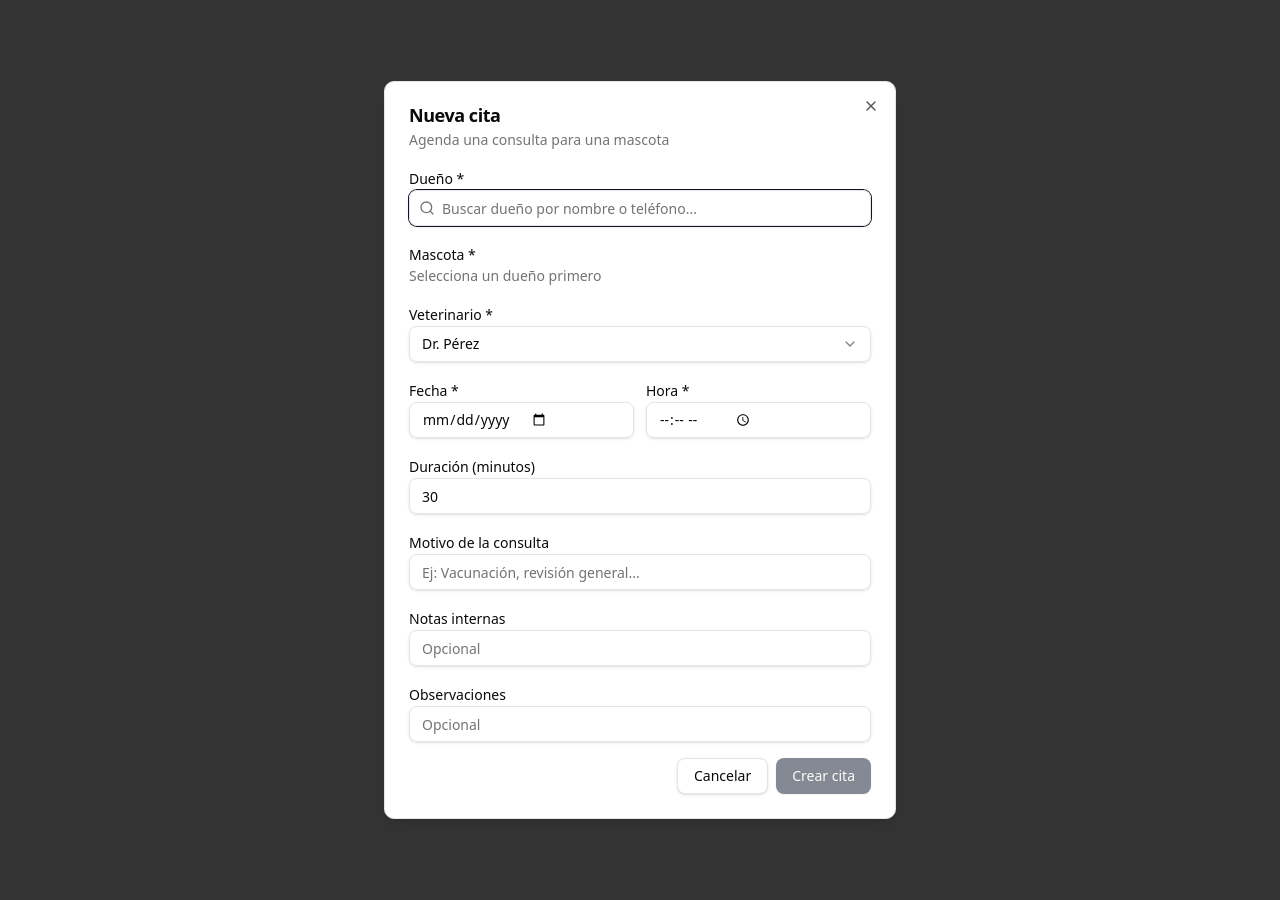
Test: CrearCitaModal › 4. conflicto: muestra sugerencias cuando hay conflicto
Type "Juan" into the field with placeholder "Buscar dueño por nombre o teléfono...". click: (640, 208)
box: [409,190,871,226]
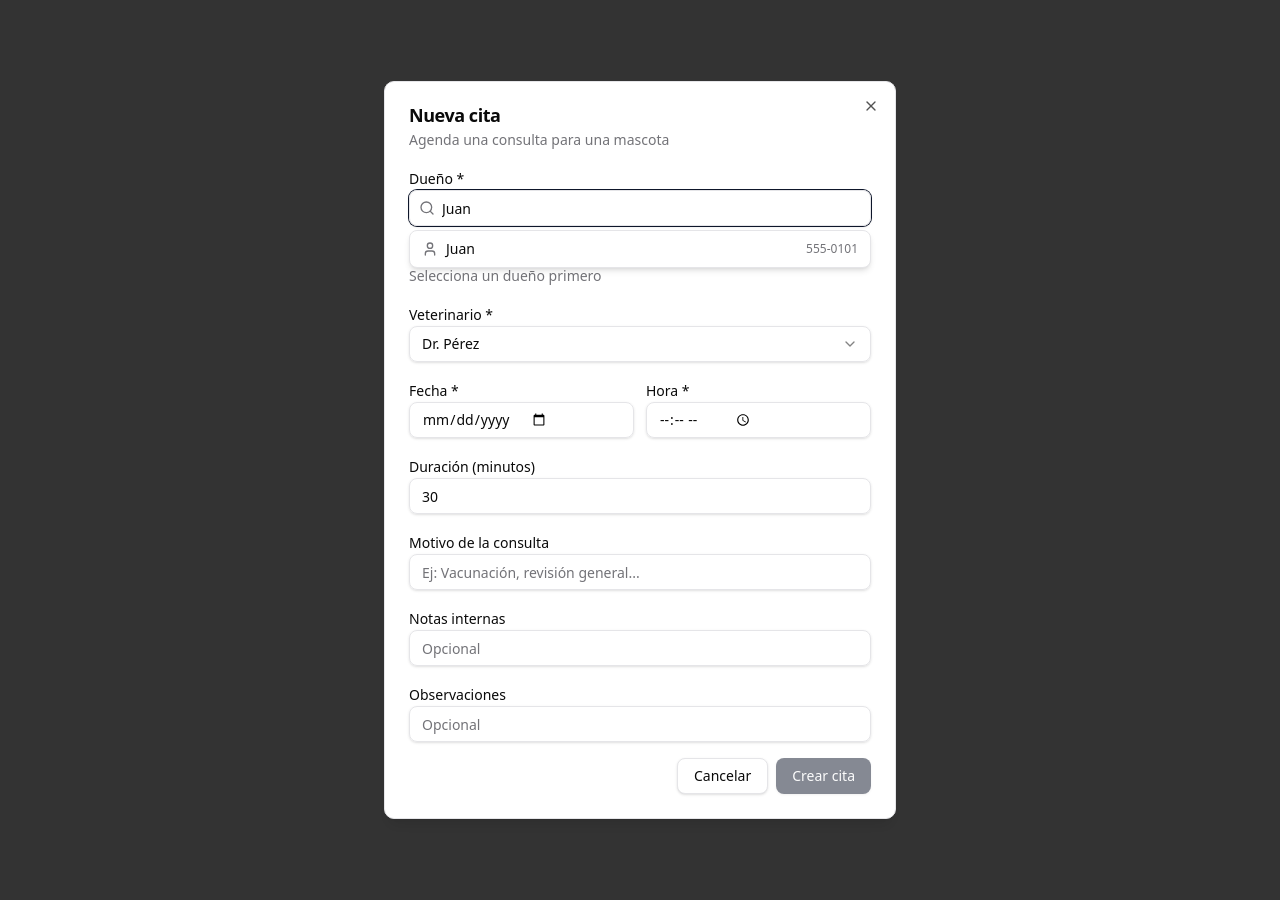
Now the text "Juan" is shown
Click the text "Juan". click: (460, 249)
box: [446,239,475,259]
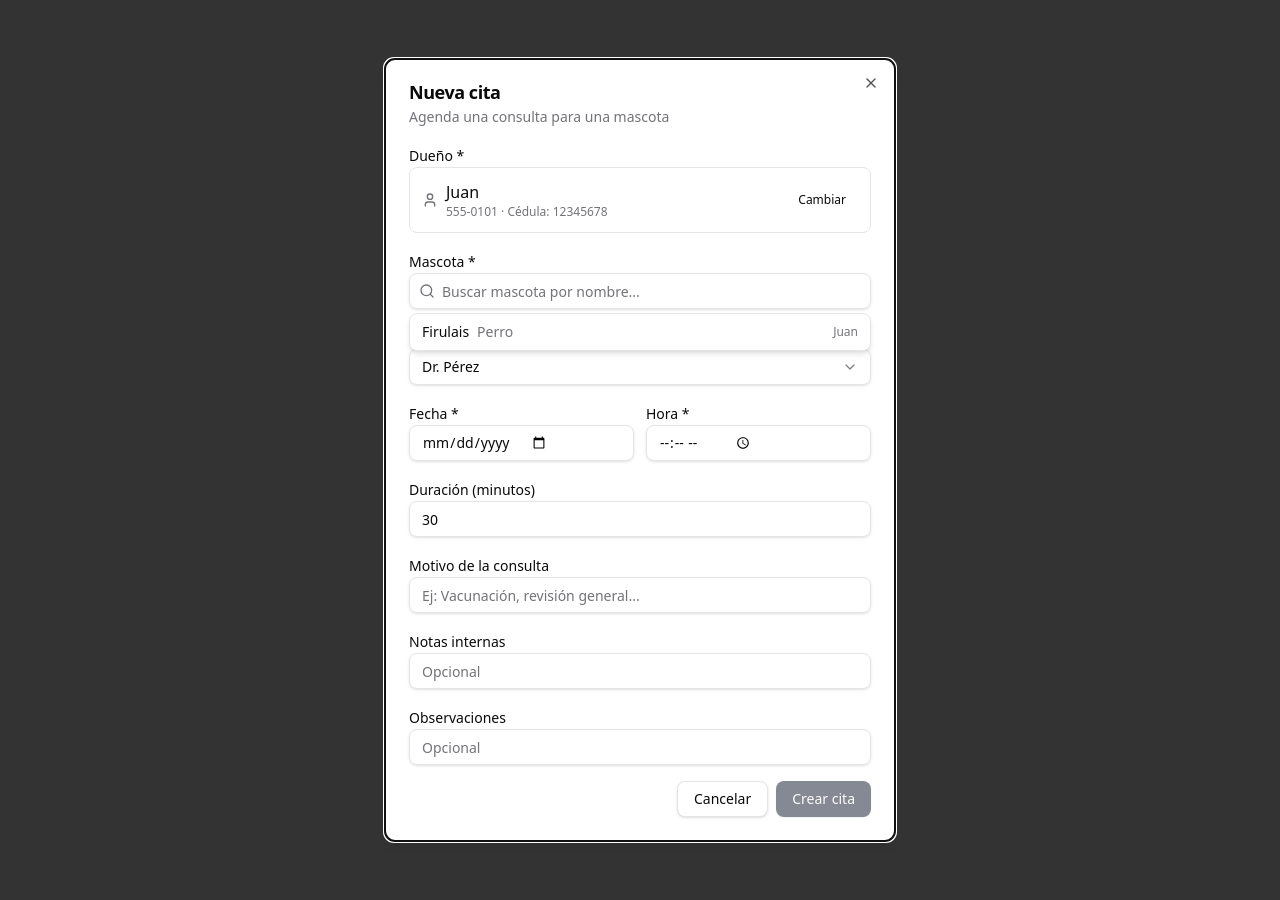
Type "Firulais" into the field with placeholder "Buscar mascota por nombre...". click: (640, 291)
box: [409,273,871,309]
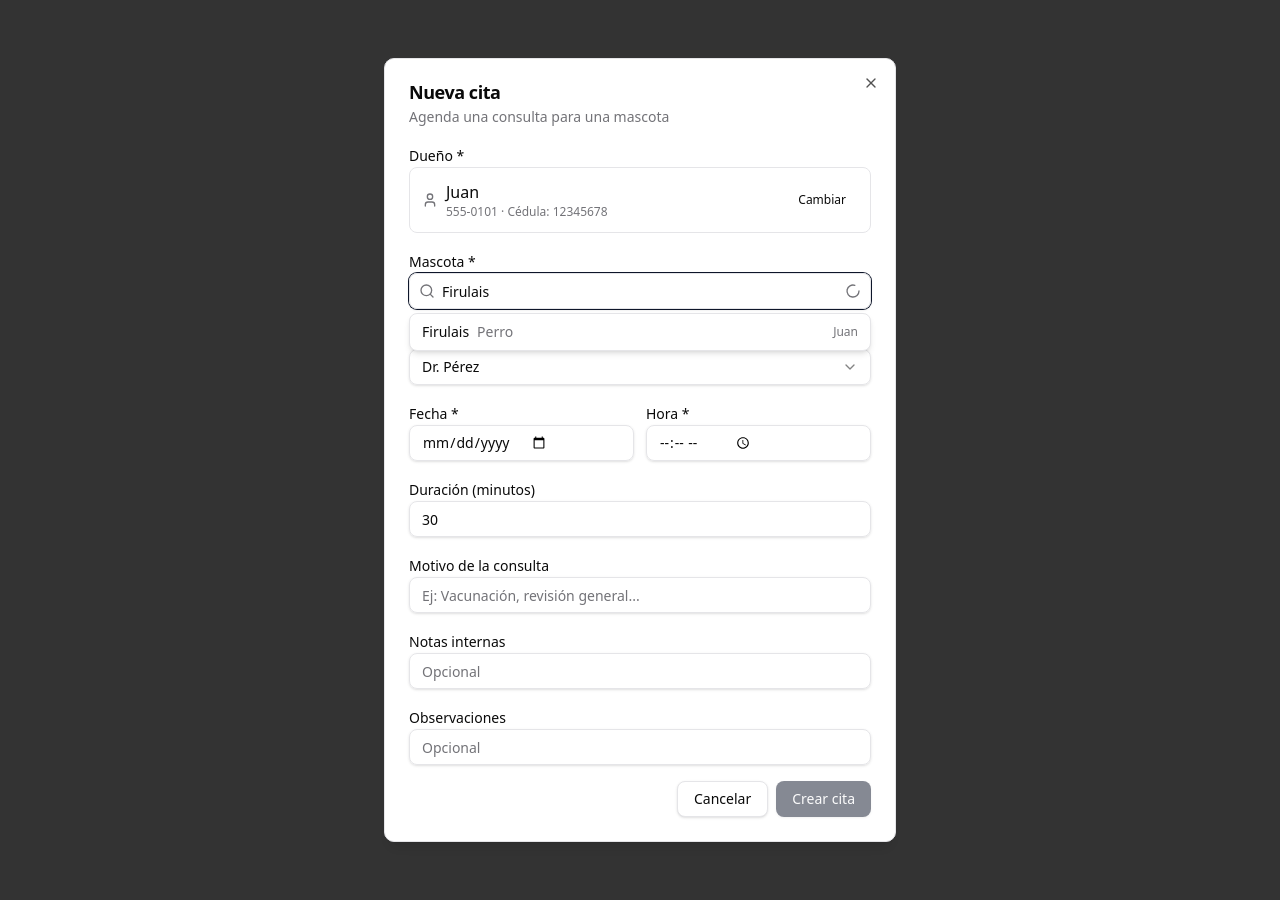
Now the text "Firulais" is shown
Click the text "Firulais". click: (446, 332)
box: [422,322,469,342]
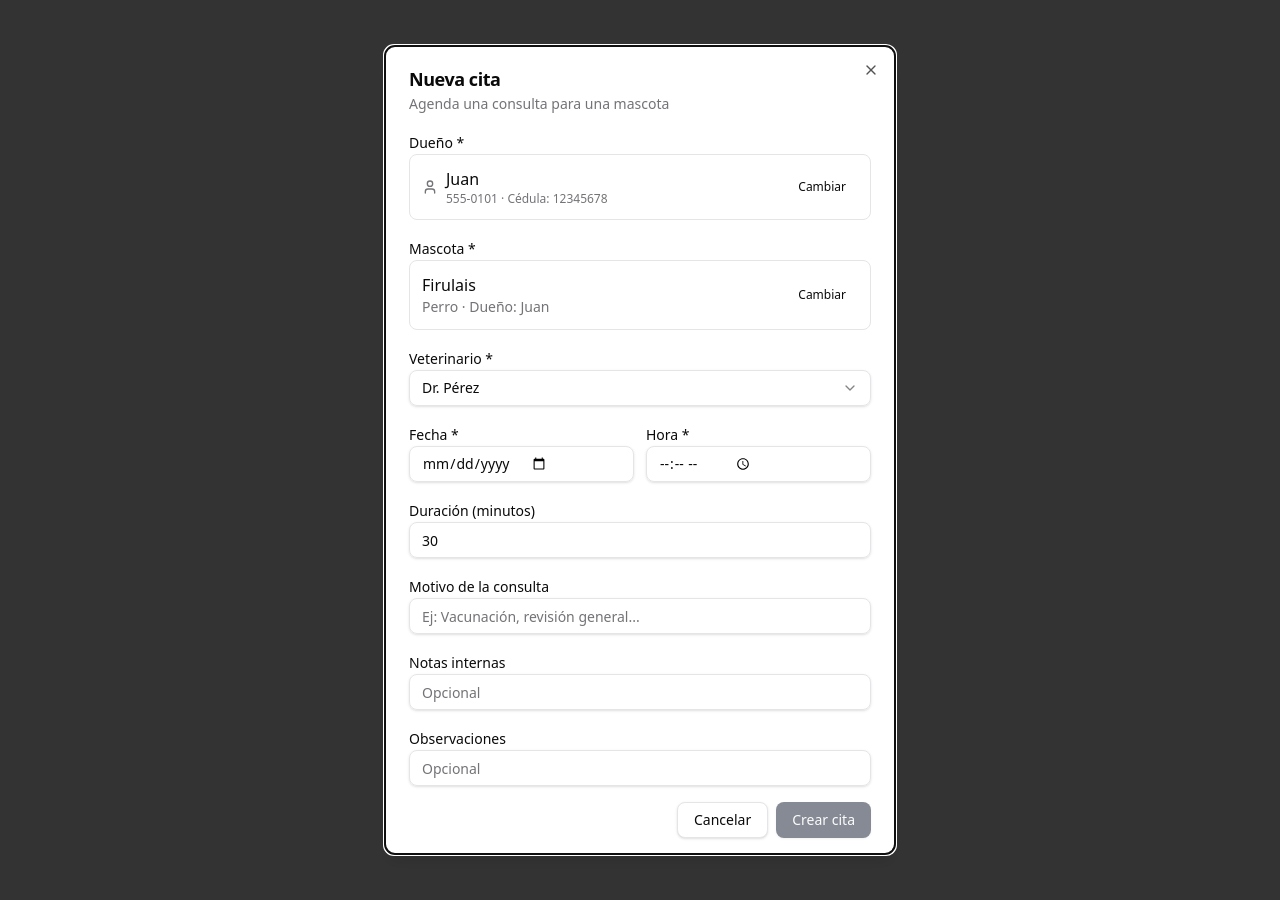
Type "2026-06-17" into the date field labelled "Fecha *". click: (522, 464)
box: [409,446,634,482]
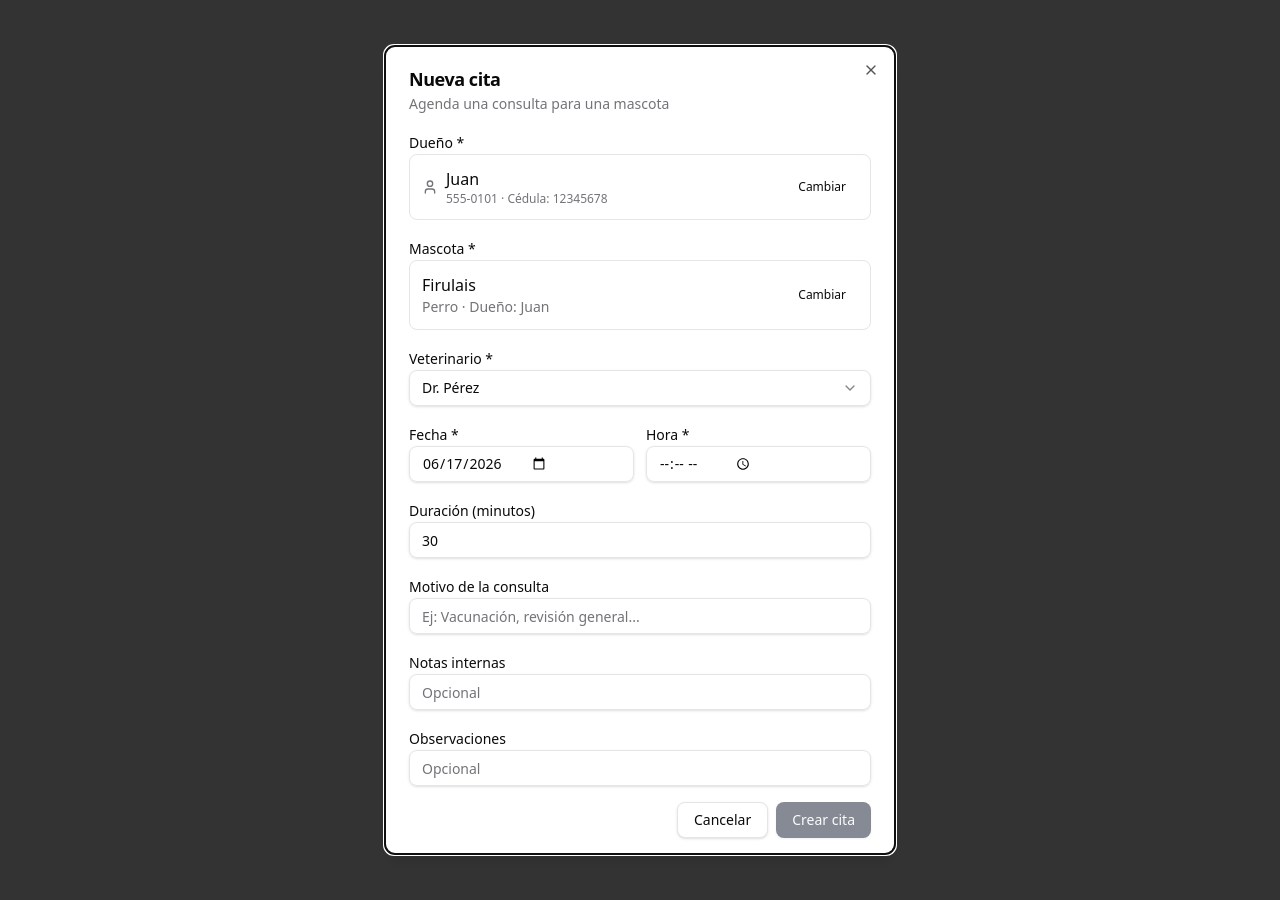
Type "10:00" into the time field labelled "Hora *". click: (758, 464)
box: [646,446,871,482]
(page scrolled)
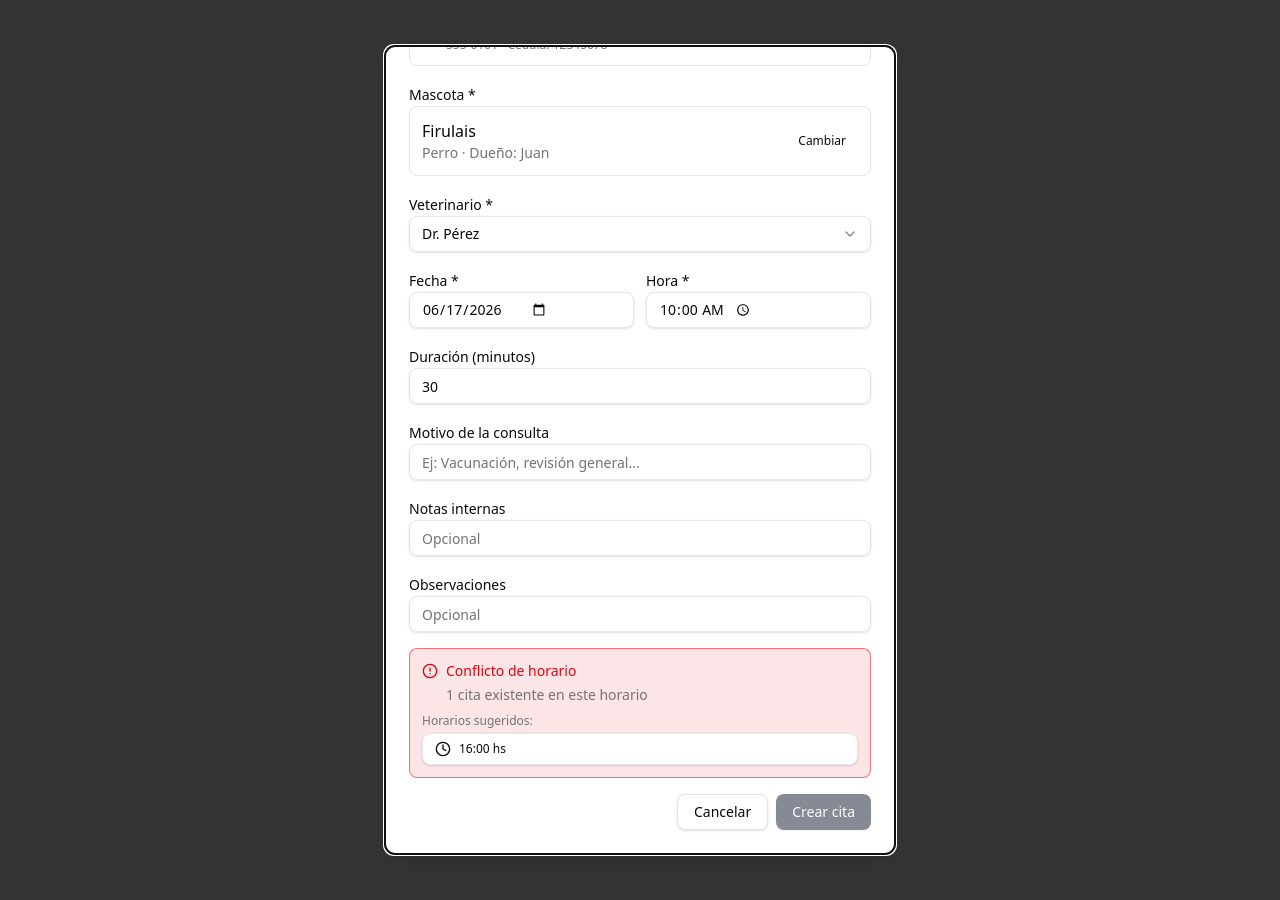
Now the text "Conflicto de horario" is shown, box [446,661,576,680]
